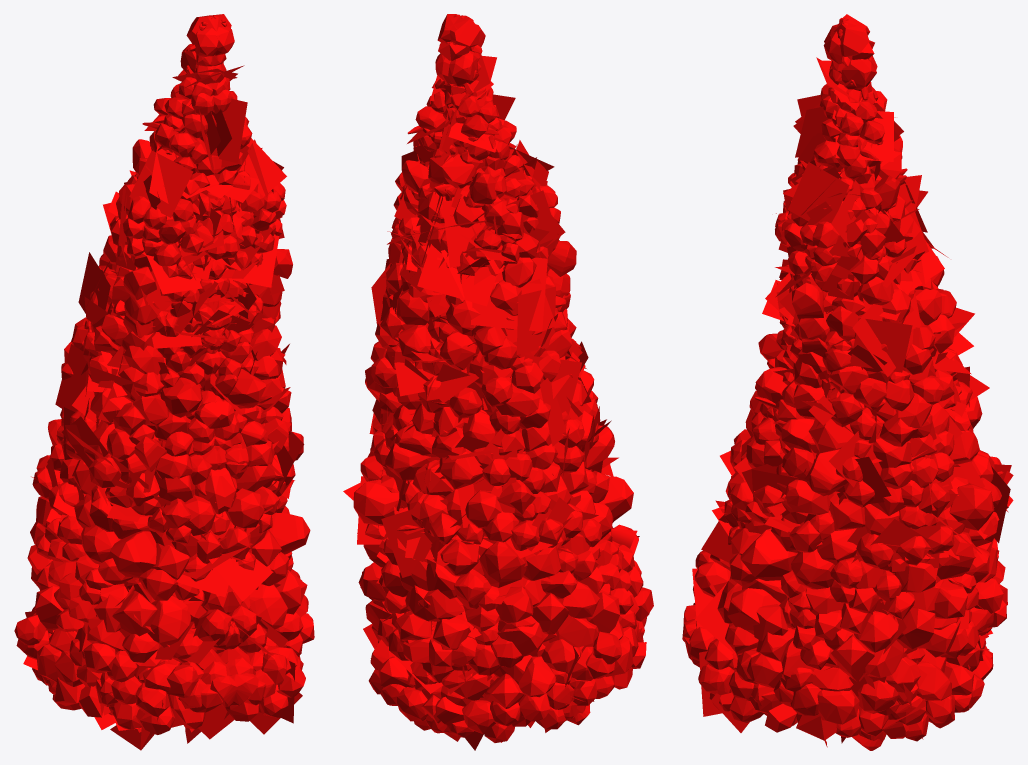
Rendered from model_unity_single.fbx.
3 renders of one model, left to right at view 1: azimuth 30°, elevation 25°; view 2: azimuth 150°, elevation 25°; view 3: azimuth 270°, elevation 25°, orthographic. The views are drawn at different scales.
Parts seen in each view (by area): view 1: Model_Unity; view 2: Model_Unity; view 3: Model_Unity.
Part boxes in pixels (x1,y1,x2,y2): Model_Unity: (14, 14, 314, 750); Model_Unity: (343, 14, 653, 750); Model_Unity: (682, 14, 1013, 750).
Size of the model in its own units: 0.2247 by 0.5891 by 0.2374.
